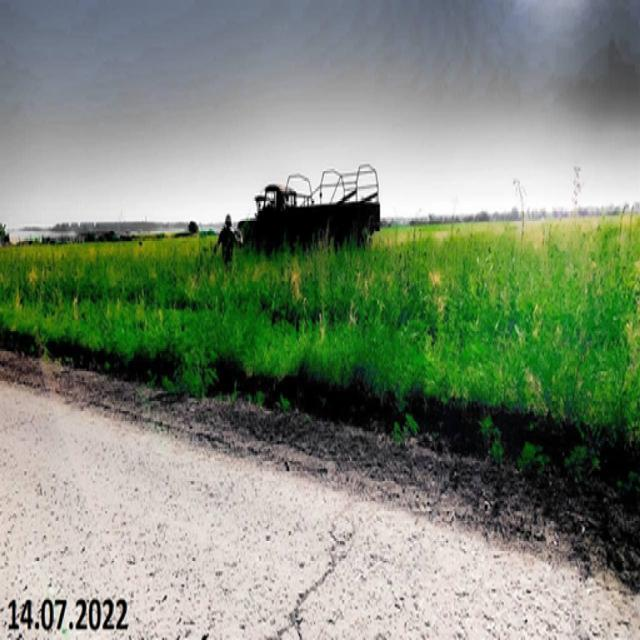TRUCK: (230, 156, 388, 264)
